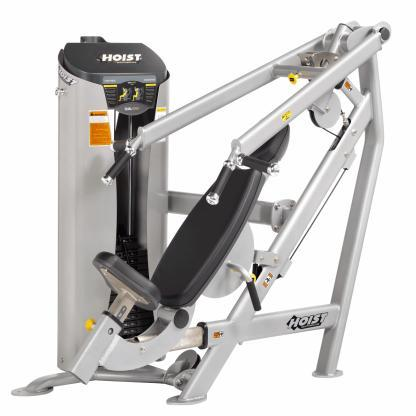shoulder press machine: (11, 5, 410, 416)
